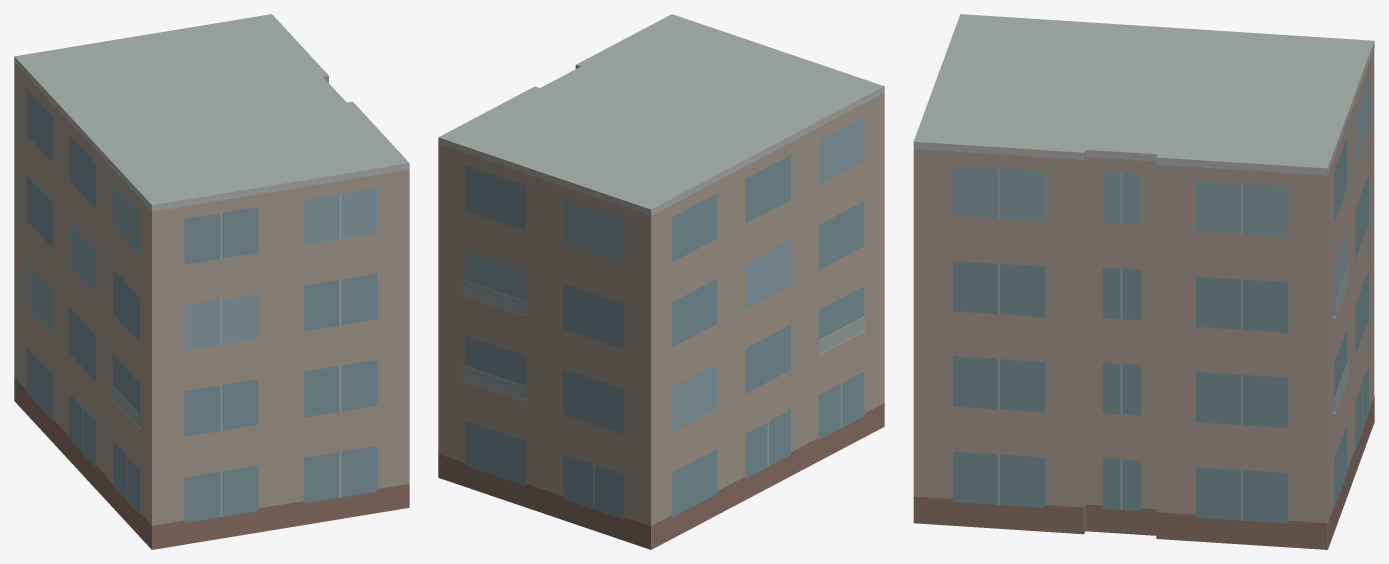
The model's file is survey-upis-32979592.glb.
3 renders of one model, left to right at view 1: azimuth 30°, elevation 25°; view 2: azimuth 150°, elevation 25°; view 3: azimuth 270°, elevation 25°, orthographic. The views are drawn at different scales.
Visible parts, largest first — view 1: survey-upis-32979592.tmp; view 2: survey-upis-32979592.tmp; view 3: survey-upis-32979592.tmp.
Part boxes in pixels (x1,y1,x2,y2): survey-upis-32979592.tmp: (14,14,409,549); survey-upis-32979592.tmp: (438,14,884,549); survey-upis-32979592.tmp: (913,14,1374,549).
Size of the model in its own units: 11.21 by 12.9 by 14.14.
